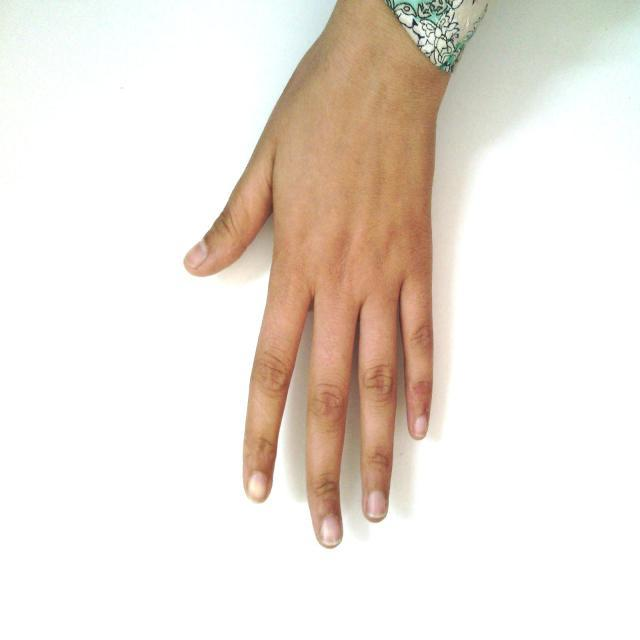Fingernail: (319, 514, 342, 546), (247, 471, 267, 502), (186, 239, 207, 268), (366, 491, 386, 519), (414, 415, 427, 437)
